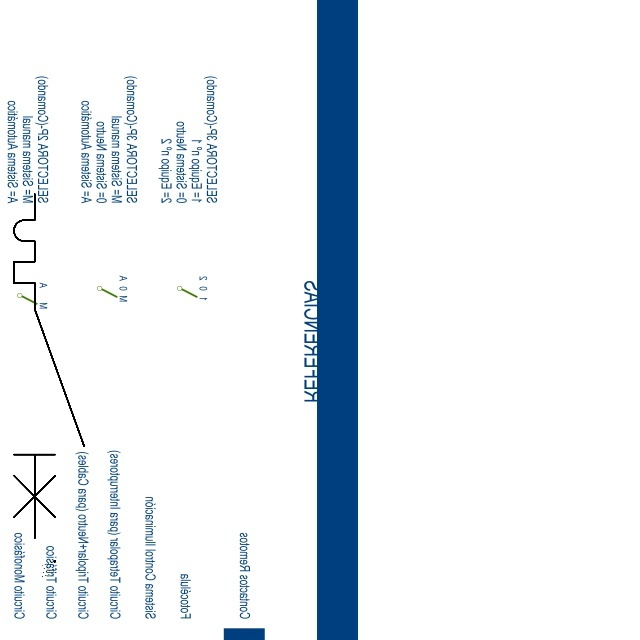interruptor_termomagnetico: (5, 185, 93, 547)
